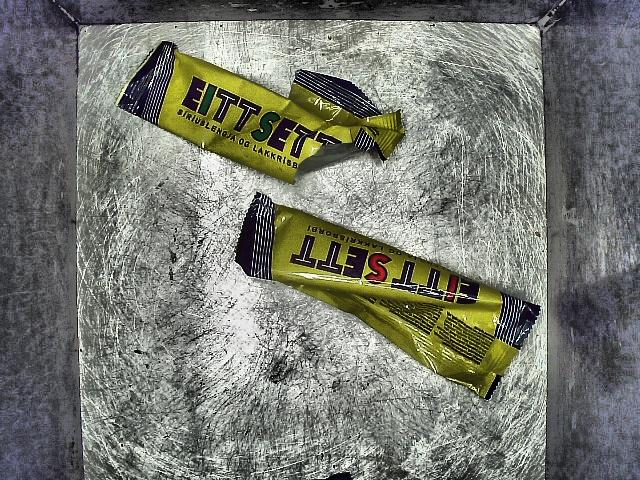Plastic: (226, 190, 542, 405), (121, 35, 417, 196)
